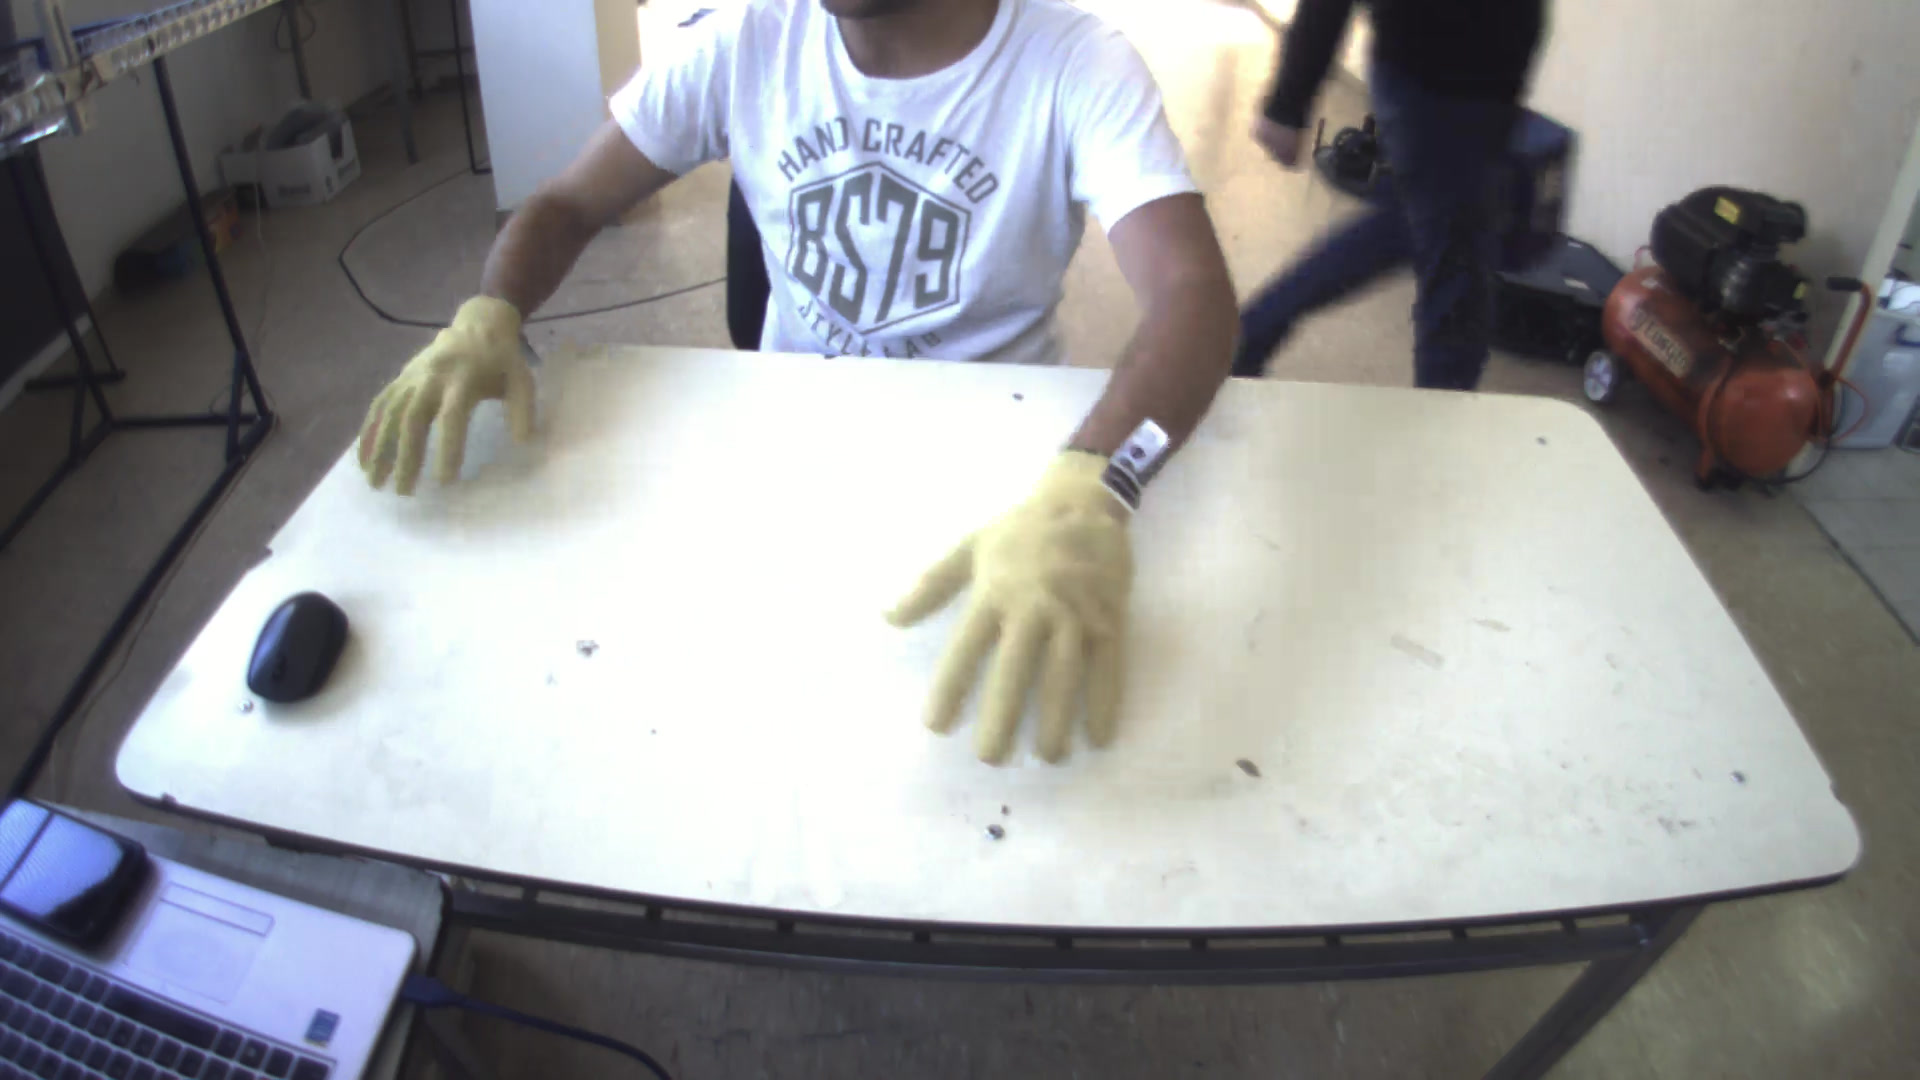hand: (868, 440, 1164, 773), (342, 284, 543, 495)
